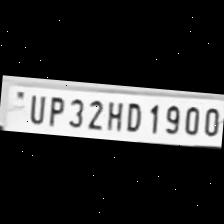0: (198, 103, 221, 136), (180, 102, 202, 134)
1: (141, 100, 162, 134)
2: (83, 95, 105, 130)
3: (64, 94, 86, 128)
9: (160, 100, 182, 136)
D: (121, 99, 144, 133)
H: (103, 96, 125, 132)
P: (44, 92, 66, 126)
U: (24, 90, 46, 124)
